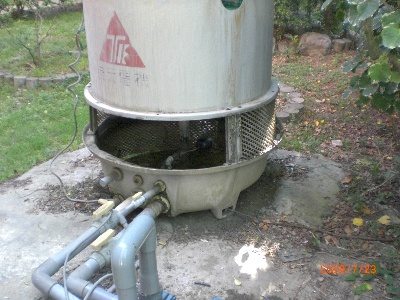water_tower: (81, 1, 284, 220)
